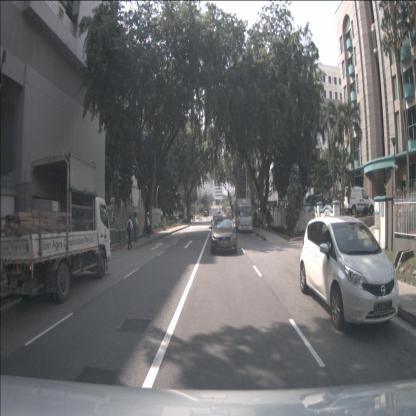human-pedestrian-adult: (127, 215, 133, 250), (133, 212, 139, 242), (258, 209, 262, 230), (254, 209, 258, 227)
vehicle-car: (300, 216, 400, 329), (341, 185, 375, 215), (211, 217, 237, 254), (211, 215, 223, 234)
vehicle-truck: (0, 190, 112, 304), (234, 197, 253, 234)
